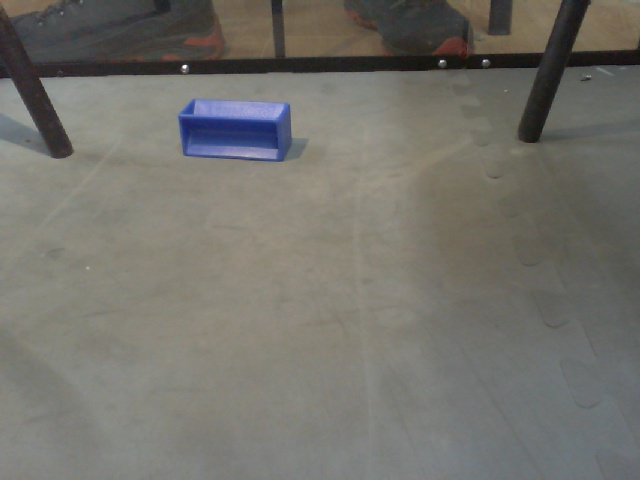BlueSample: (174, 95, 298, 164)
